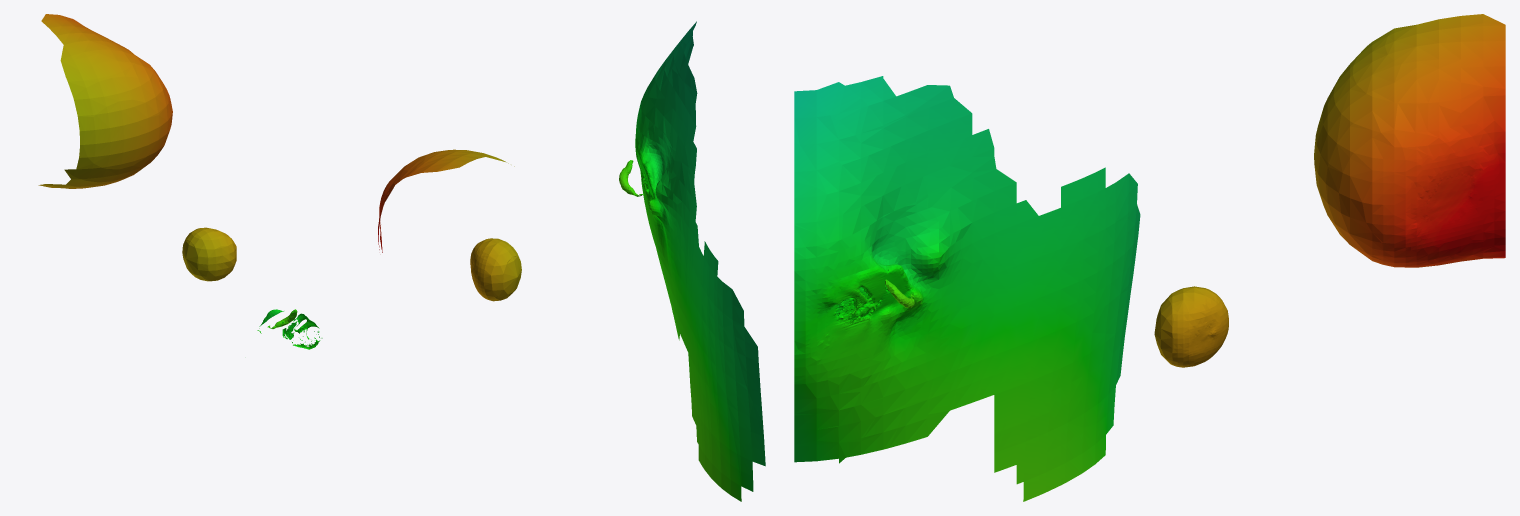
3 views of the same model, side by side, from view 1: azimuth 30°, elevation 25°; view 2: azimuth 150°, elevation 25°; view 3: azimuth 270°, elevation 25° (orthographic). The views are drawn at different scales.
Visible parts, largest first — view 1: geometry_0; view 2: geometry_0; view 3: geometry_0.
Boxes of the visible parts, bbox=[...] form: geometry_0: bbox=[38, 14, 322, 349]; geometry_0: bbox=[378, 21, 765, 501]; geometry_0: bbox=[794, 14, 1505, 501].
Bounding box in the file's own units: 0.8633 × 1.23 × 1.51.
